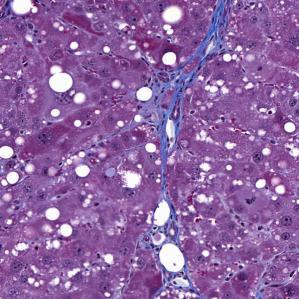fibrosis: (138, 58, 213, 104)
